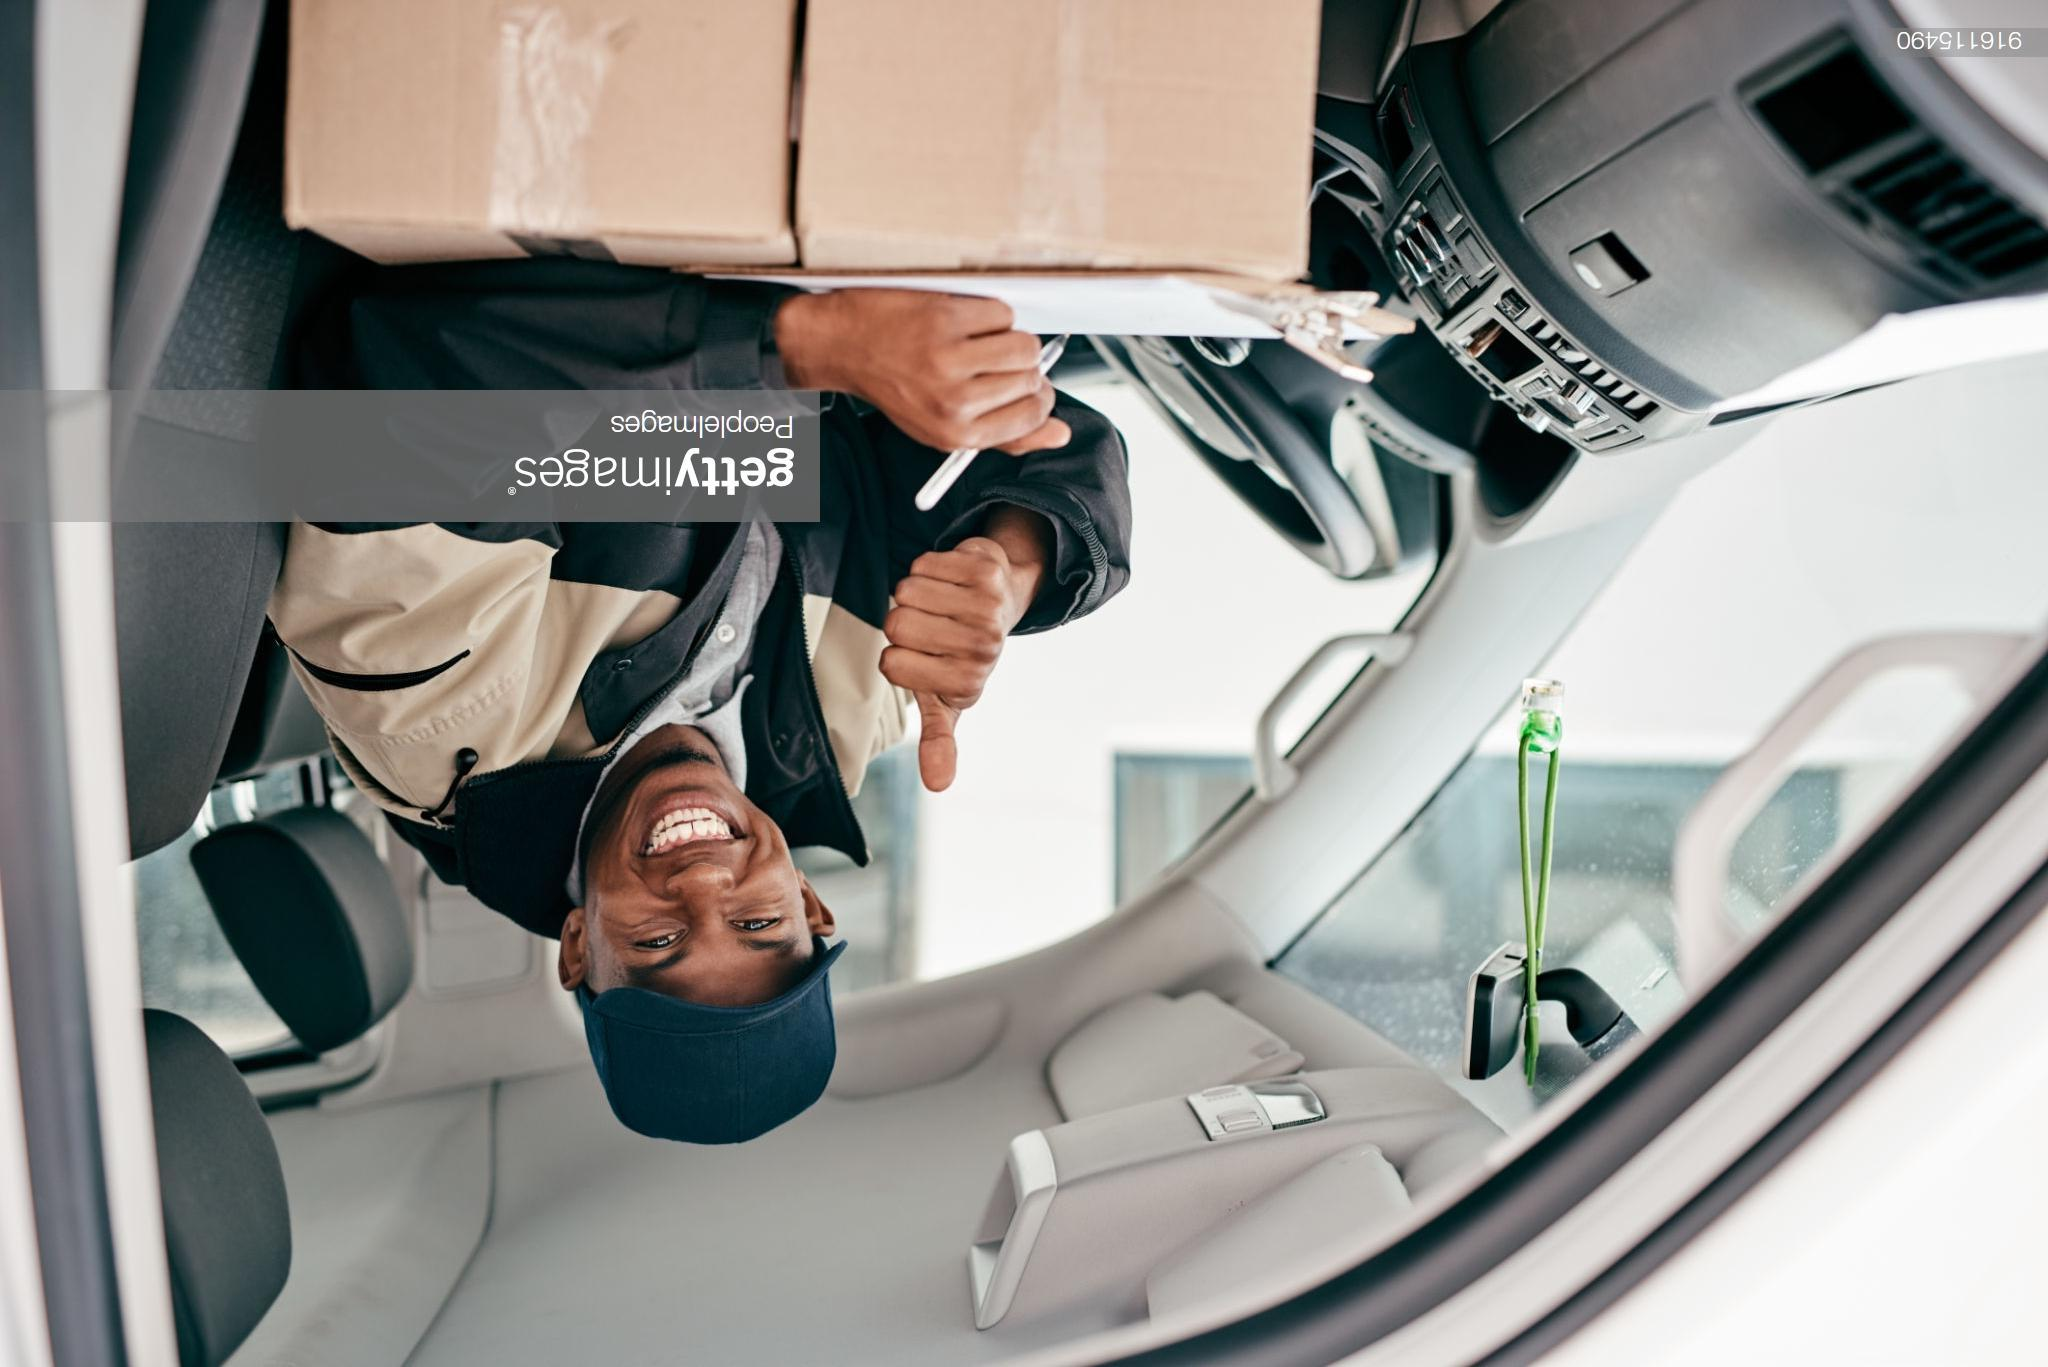thumbsdown: (878, 551, 1006, 793)
